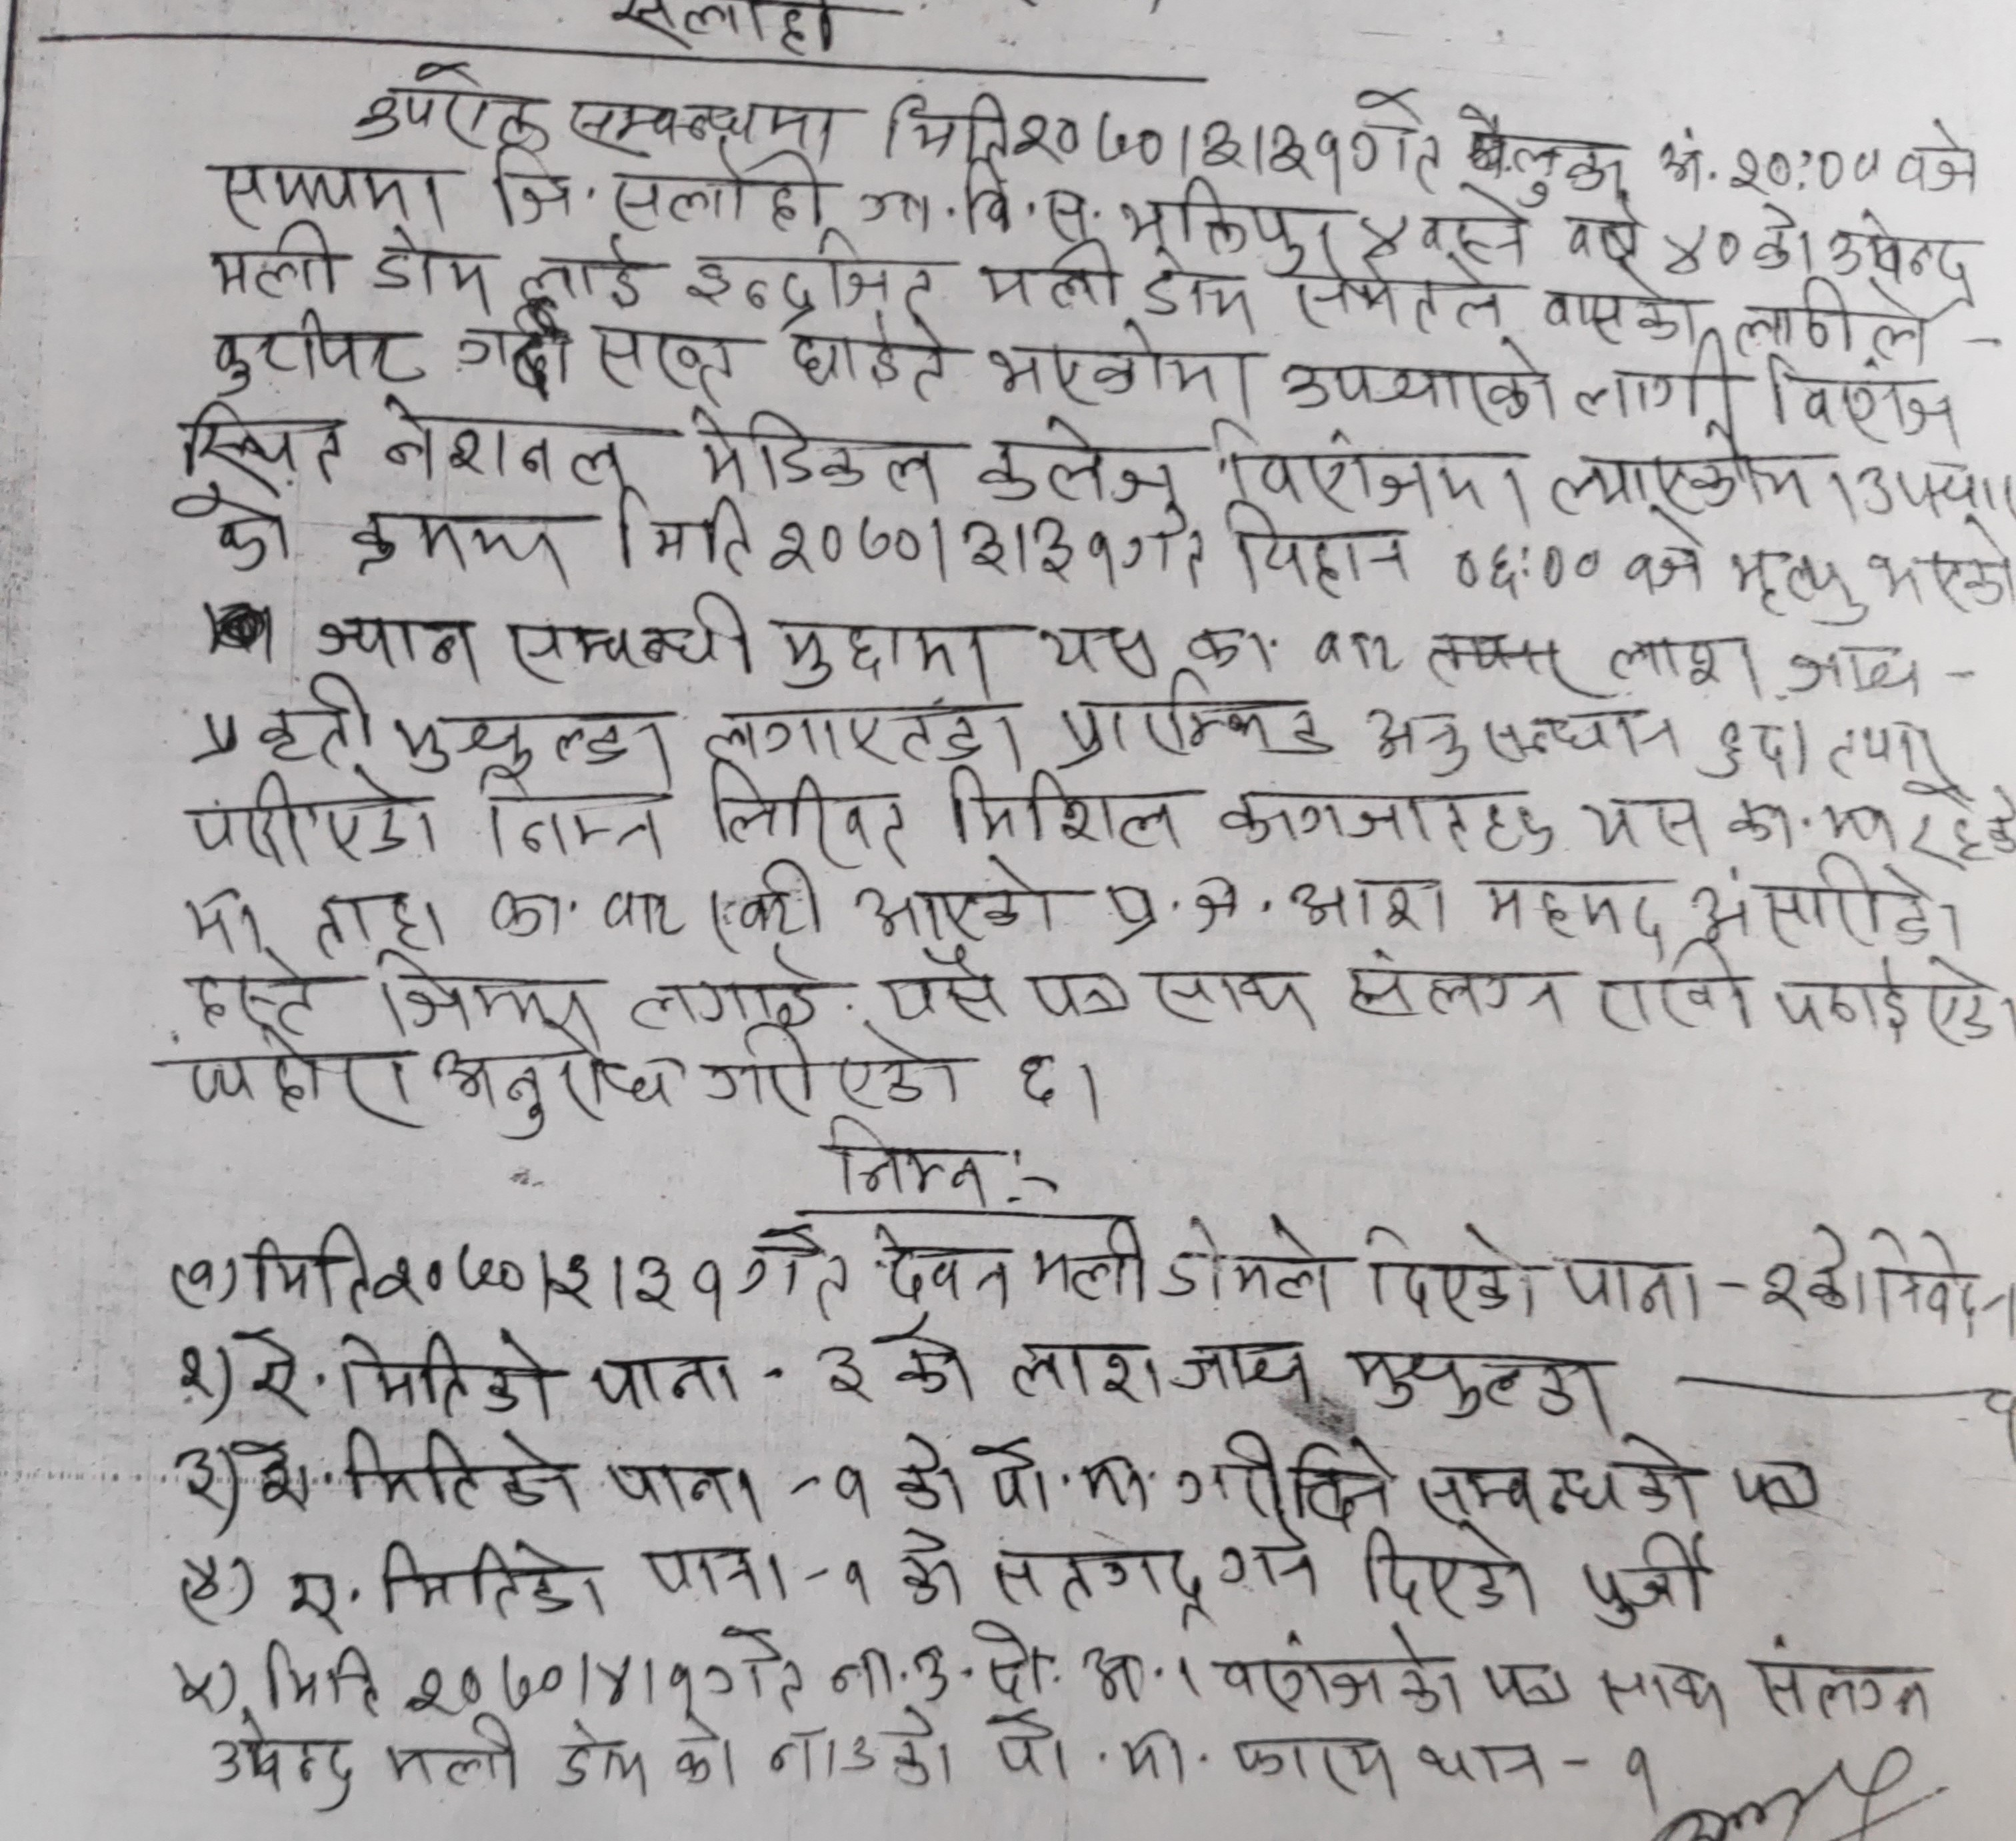text: (1545, 407, 1849, 519), (1208, 411, 1528, 511), (769, 500, 1119, 591), (486, 144, 827, 235), (372, 1230, 729, 1316), (1359, 691, 1684, 781), (1275, 325, 1559, 426), (432, 1023, 678, 1141), (829, 1622, 1164, 1708), (1010, 102, 1347, 186), (1417, 1429, 1703, 1527), (1688, 851, 1967, 949), (1217, 781, 1556, 862), (1342, 1334, 1614, 1434), (1210, 1620, 1468, 1723), (172, 1027, 418, 1134), (397, 1637, 706, 1722), (369, 391, 632, 490), (688, 400, 955, 497), (983, 318, 1257, 411), (1055, 672, 1340, 762), (701, 1023, 964, 1120), (186, 769, 443, 867), (334, 1420, 585, 1520), (936, 755, 1182, 855), (678, 230, 947, 318), (1765, 955, 2016, 1048), (388, 698, 673, 779), (367, 1530, 611, 1623), (502, 590, 753, 679), (980, 1530, 1220, 1623), (332, 1327, 562, 1423), (850, 154, 1098, 244), (372, 941, 594, 1041), (348, 504, 587, 590), (204, 304, 420, 398), (706, 758, 910, 858), (975, 412, 1182, 511), (1117, 179, 1340, 270), (701, 698, 1022, 762), (1220, 498, 1415, 602), (850, 848, 1061, 942), (562, 86, 843, 156), (191, 665, 379, 769), (1352, 1218, 1540, 1322), (462, 767, 664, 862), (1758, 351, 1956, 446), (1456, 98, 1630, 205), (1865, 1225, 2016, 1348), (1357, 1523, 1549, 1620), (1343, 946, 1577, 1025), (351, 56, 548, 149), (1298, 251, 1510, 337), (1479, 867, 1670, 962), (776, 611, 994, 693), (1163, 1211, 1338, 1311), (1749, 1630, 1937, 1723), (1730, 283, 1946, 363), (822, 1107, 994, 1207), (781, 312, 955, 411), (625, 946, 831, 1028), (764, 1706, 959, 1792), (1228, 1716, 1405, 1809), (172, 391, 346, 486), (1867, 507, 2016, 616), (1595, 941, 1756, 1037), (207, 154, 441, 219), (202, 1730, 360, 1823), (615, 486, 759, 588), (1577, 1529, 1716, 1634), (592, 316, 745, 411), (1573, 340, 1737, 426), (455, 297, 580, 407), (1758, 1211, 1865, 1339), (1099, 856, 1247, 949), (493, 879, 688, 949), (601, 0, 850, 53), (1145, 958, 1319, 1034), (1825, 205, 1979, 290), (999, 1334, 1166, 1411), (376, 1711, 529, 1795), (871, 1218, 1012, 1307), (249, 1218, 372, 1320), (973, 237, 1127, 318), (1284, 1427, 1405, 1529), (1554, 1248, 1709, 1327), (200, 219, 348, 302), (1173, 1427, 1282, 1537), (701, 855, 825, 951), (1723, 544, 1868, 627), (1164, 1330, 1319, 1408), (1723, 783, 1897, 851), (165, 484, 300, 572), (1026, 1216, 1156, 1307), (731, 1221, 857, 1314), (875, 942, 1010, 1028), (1285, 869, 1447, 941), (1902, 774, 2016, 876), (515, 228, 644, 316), (1772, 632, 1928, 704), (629, 1539, 792, 1608), (1136, 244, 1261, 333), (1349, 81, 1444, 198), (1445, 532, 1603, 600), (313, 886, 450, 965), (602, 1455, 764, 1522), (367, 228, 492, 314), (1531, 284, 1696, 347), (255, 1637, 390, 1713), (1609, 625, 1765, 690), (1696, 702, 1814, 786), (1415, 179, 1528, 267), (1575, 786, 1709, 860), (704, 1625, 811, 1716), (880, 86, 1006, 163), (183, 956, 320, 1027), (587, 1350, 743, 1411), (311, 612, 476, 669), (1408, 1732, 1554, 1795), (1595, 1660, 1728, 1725), (1821, 714, 1946, 783), (551, 1718, 659, 1797), (975, 1706, 1073, 1792), (1212, 1525, 1319, 1601), (1617, 511, 1709, 598), (1038, 616, 1159, 681), (880, 1430, 971, 1515), (1124, 504, 1215, 586), (1022, 958, 1140, 1021), (232, 1327, 314, 1416), (973, 1434, 1050, 1522), (181, 885, 272, 958), (1477, 1650, 1577, 1713), (883, 1329, 975, 1397), (1749, 191, 1819, 279), (894, 1523, 964, 1611), (239, 1427, 307, 1515), (1559, 198, 1645, 263), (1660, 218, 1742, 284), (1117, 1722, 1191, 1794), (1076, 1450, 1156, 1516), (1184, 621, 1280, 674), (662, 1727, 741, 1790), (1310, 625, 1398, 679), (281, 1562, 344, 1636), (817, 1341, 878, 1411), (160, 1443, 218, 1508), (829, 1453, 880, 1523), (1354, 202, 1412, 263), (1010, 1049, 1066, 1113), (1617, 1741, 1665, 1806), (170, 1339, 214, 1406), (169, 1653, 216, 1709), (174, 1553, 225, 1604), (838, 1548, 873, 1616), (183, 1255, 220, 1295)
